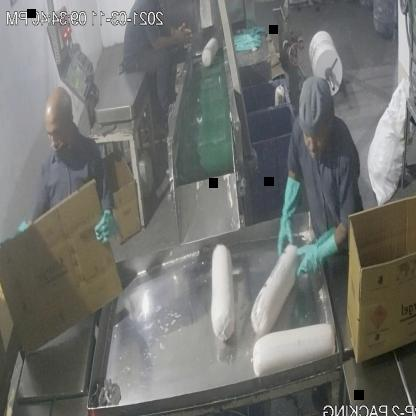glove: (299, 218, 348, 279), (274, 170, 304, 263)
no_glove: (146, 21, 194, 63)
